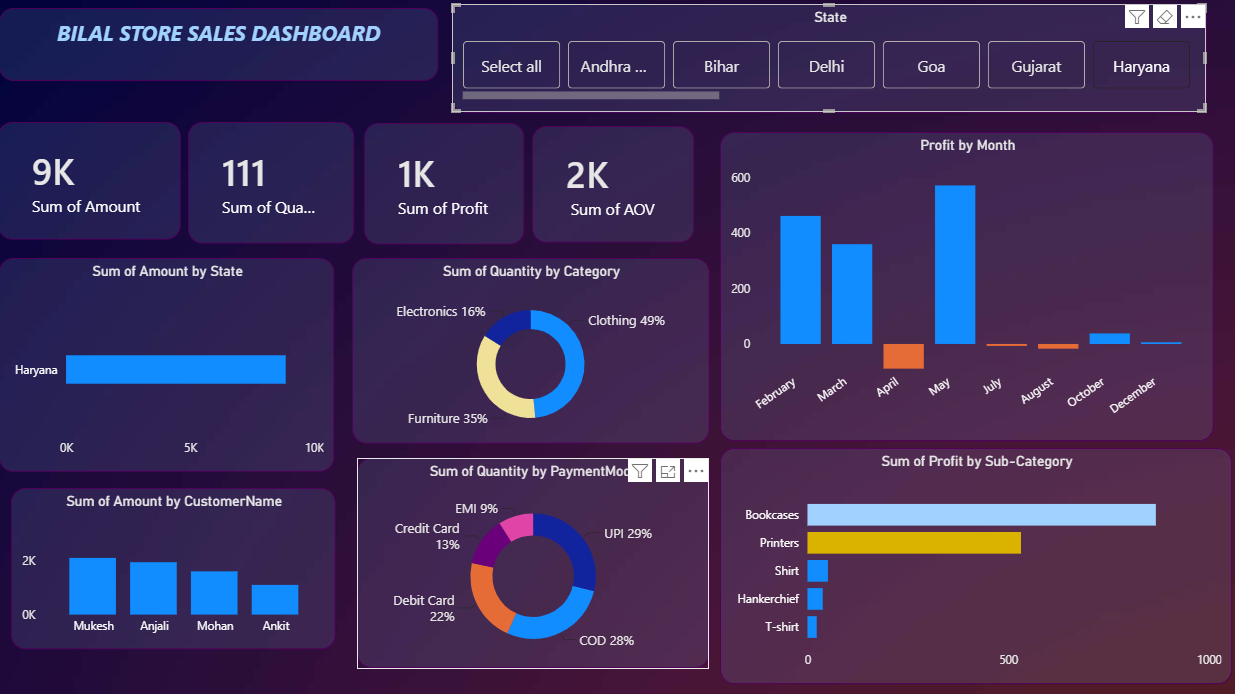

Layout of this report page (visuals, bound fields, positions):
{"tool":"powerbi","page":{"name":"Page 1","canvas":[1280,720],"ordinal":0},"visuals":[{"type":"textbox","box":[3.6,10.7,452,74.9],"z":0},{"type":"columnChart","title":" Profit by Month","fields":{"Category":["Orders.Order Date.Variation.Date Hierarchy.Month"],"Y":["Sum(Details.Profit)"]},"box":[744.7,138,508,317.6],"z":1000},{"type":"barChart","fields":{"Category":["Details.Sub-Category"],"Y":["Sum(Details.Profit)"]},"box":[744.7,462.8,527,242.7],"z":2000},{"type":"donutChart","fields":{"Category":["Details.Category"],"Y":["Sum(Details.Quantity)"]},"box":[366.2,267.5,367.5,191.2],"z":3000},{"type":"donutChart","fields":{"Y":["Sum(Details.Quantity)"],"Category":["Details.PaymentMode"]},"box":[371.2,473.8,362.5,216.2],"z":4000},{"type":"cardVisual","fields":{"Data":["Sum(Details.Amount)"]},"box":[2.4,127.3,188,121.3],"z":5000},{"type":"cardVisual","fields":{"Data":["Sum(Details.Quantity)"]},"box":[197.5,127.3,171.3,124.9],"z":6000},{"type":"cardVisual","fields":{"Data":["Sum(Details.Profit)"]},"box":[378.3,128.5,165.4,124.9],"z":7000},{"type":"cardVisual","fields":{"Data":["Sum(Details.AOV)"]},"box":[552,132,166.5,120.1],"z":8000},{"type":"barChart","fields":{"Category":["Orders.State"],"Y":["Sum(Details.Amount)"]},"box":[3.6,267.7,345,220.1],"z":9000},{"type":"columnChart","fields":{"Category":["Orders.CustomerName"],"Y":["Sum(Details.Amount)"]},"box":[15,503.8,333.8,166.2],"z":10000},{"type":"advancedSlicerVisual","fields":{"Values":["Orders.State"]},"box":[468.7,5.9,776.8,111.8],"z":11000}]}

Visuals, with their boxes in screenshot pixels (x1, y1, x2, y2), scaled from the page's 1280x720 canvas onto the 1235x694 screenshot:
textbox: (x1=3, y1=10, x2=440, y2=83)
" Profit by Month" columnChart: (x1=719, y1=133, x2=1209, y2=439)
barChart - Details.Sub-Category x Sum(Details.Profit): (x1=719, y1=446, x2=1227, y2=680)
donutChart - Details.Category x Sum(Details.Quantity): (x1=353, y1=258, x2=708, y2=442)
donutChart - Sum(Details.Quantity) x Details.PaymentMode: (x1=358, y1=457, x2=708, y2=665)
cardVisual - Sum(Details.Amount): (x1=2, y1=123, x2=184, y2=240)
cardVisual - Sum(Details.Quantity): (x1=191, y1=123, x2=356, y2=243)
cardVisual - Sum(Details.Profit): (x1=365, y1=124, x2=525, y2=244)
cardVisual - Sum(Details.AOV): (x1=533, y1=127, x2=693, y2=243)
barChart - Orders.State x Sum(Details.Amount): (x1=3, y1=258, x2=336, y2=470)
columnChart - Orders.CustomerName x Sum(Details.Amount): (x1=14, y1=486, x2=337, y2=646)
advancedSlicerVisual - Orders.State: (x1=452, y1=6, x2=1202, y2=113)
